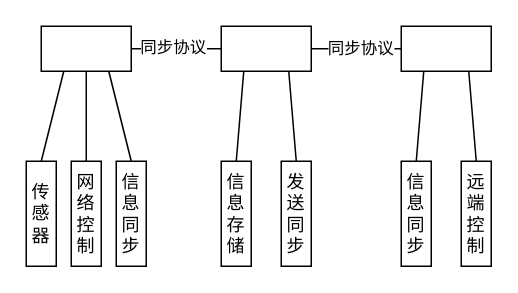
Some shapes in this 518 by 293 pixel diagram are drawn without their labels. The centre of each missing label's shape, as x and y in pixels:
受控端: the point at 85,48
客户端: the point at 445,48
服务端: the point at 265,48
